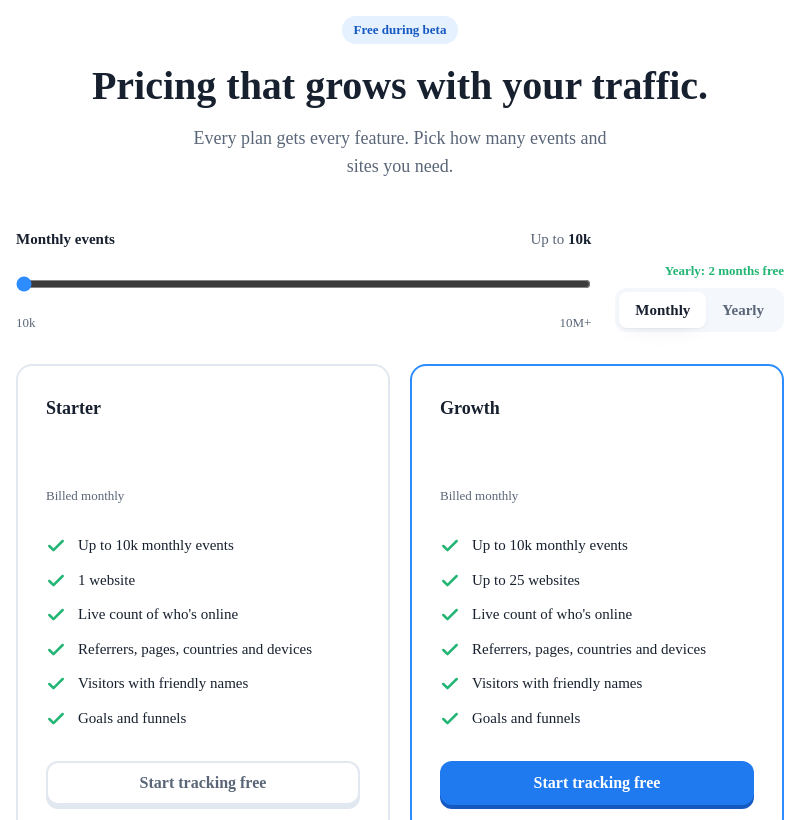
Test: Pricing › reprices both plans when the events slider moves
Set the slider labelled "Monthly events Up to 10k" to "1" at (94, 284), box [16, 262, 591, 306]
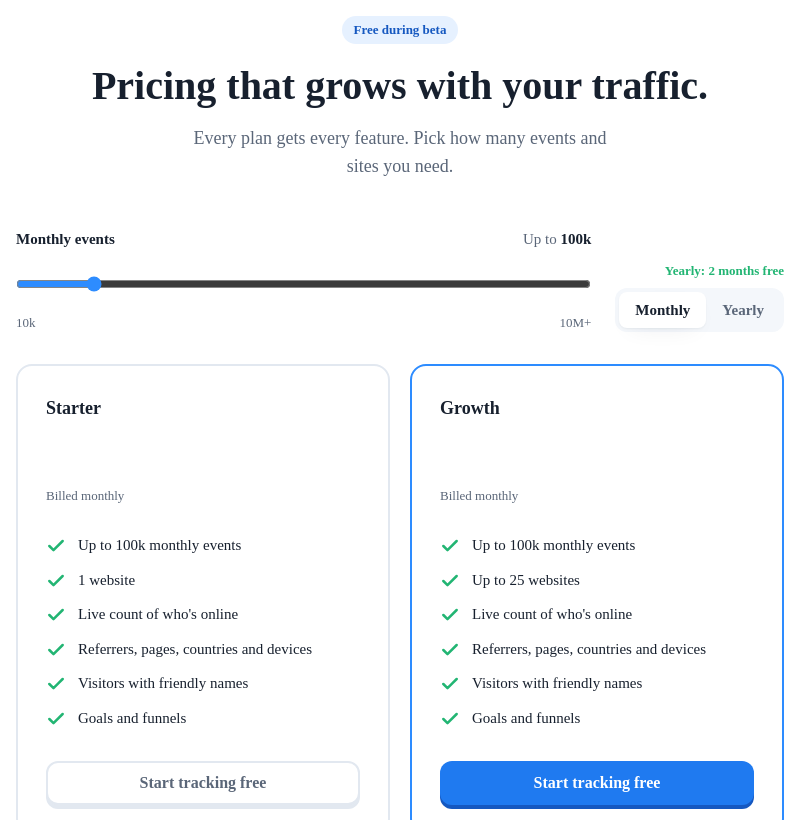
Result: the list item "Up to 100k monthly events" below "Starter" is shown at [46, 536, 241, 556]
